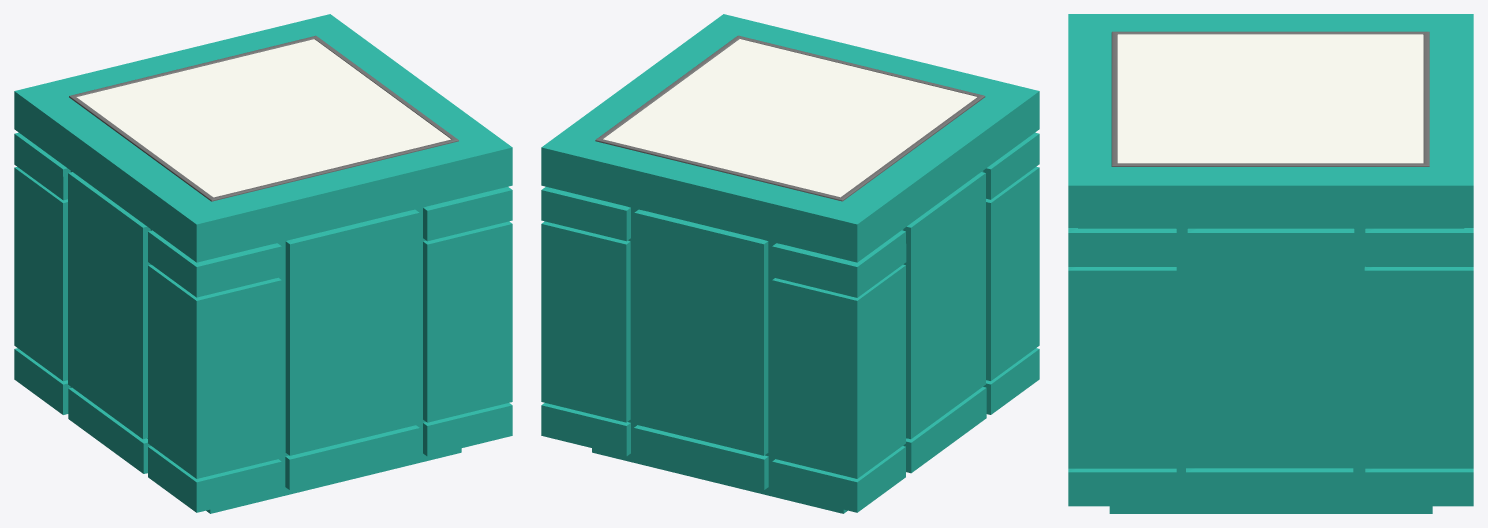
The model's file is STAND2.fbx.
3 views of the same model, side by side, from view 1: azimuth 30°, elevation 25°; view 2: azimuth 150°, elevation 25°; view 3: azimuth 270°, elevation 25° (orthographic). The views are drawn at different scales.
Visible parts, largest first — view 1: Box028, Plane003, Group002; view 2: Box028, Plane003, Group002; view 3: Box028, Plane003, Group002.
Boxes of the visible parts, x1,y1,x2,y2 form: Box028: (14, 14, 512, 513); Plane003: (76, 39, 450, 197); Group002: (69, 35, 458, 201); Box028: (541, 14, 1039, 513); Plane003: (603, 39, 976, 197); Group002: (595, 35, 985, 201); Box028: (1068, 14, 1473, 513); Plane003: (1117, 34, 1423, 163); Group002: (1111, 31, 1429, 166).
Size of the model in its own units: 64.05 by 60.49 by 64.
